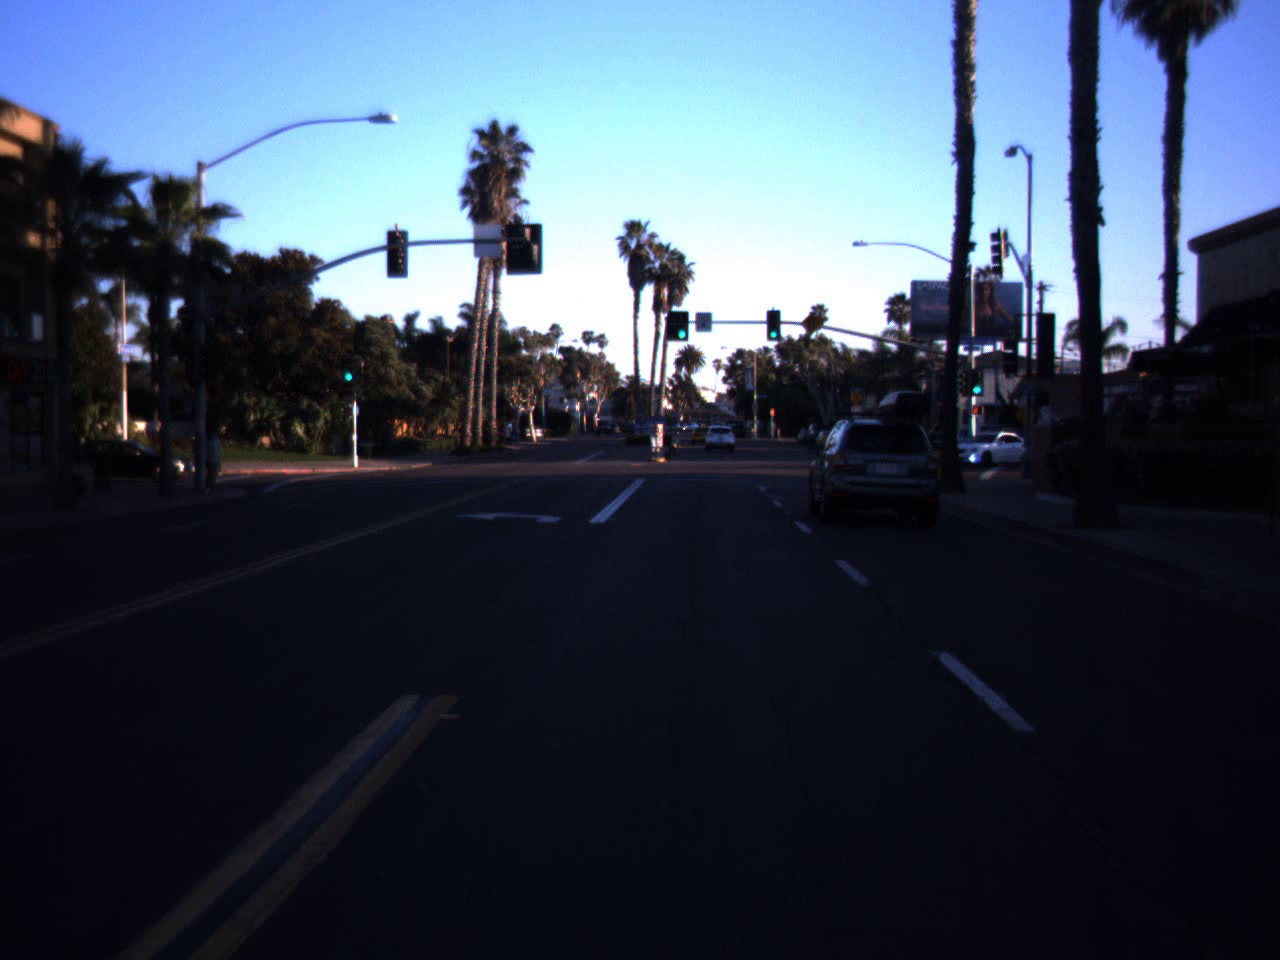go: (340, 353, 358, 383), (675, 311, 690, 341), (968, 370, 986, 395), (768, 318, 780, 338)
